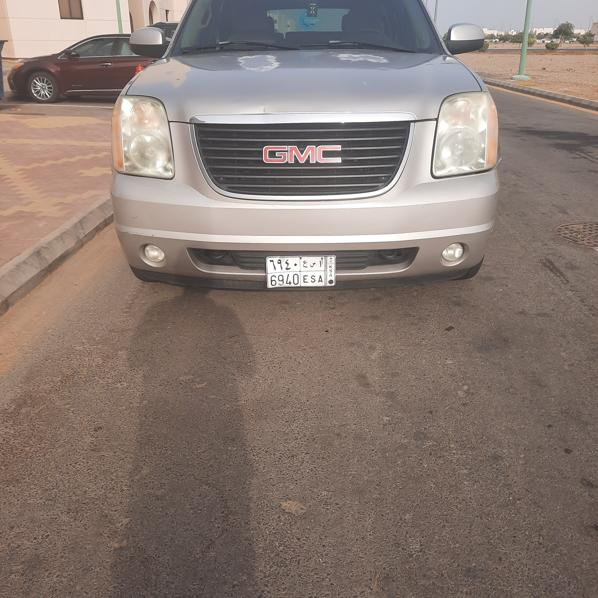numberplate: (265, 257, 337, 287)
